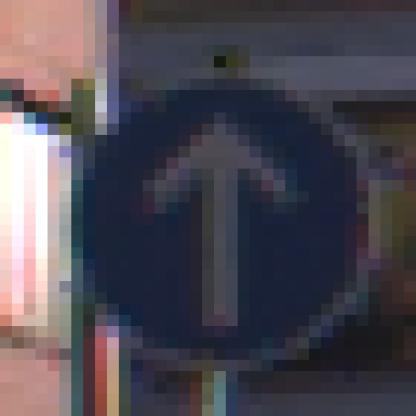AheadOnly: (61, 57, 358, 350)
